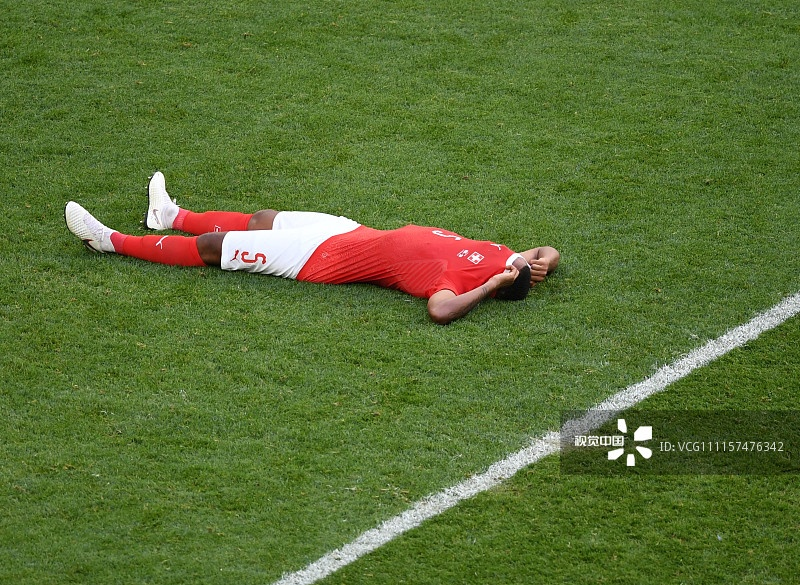falling: (54, 152, 559, 325)
